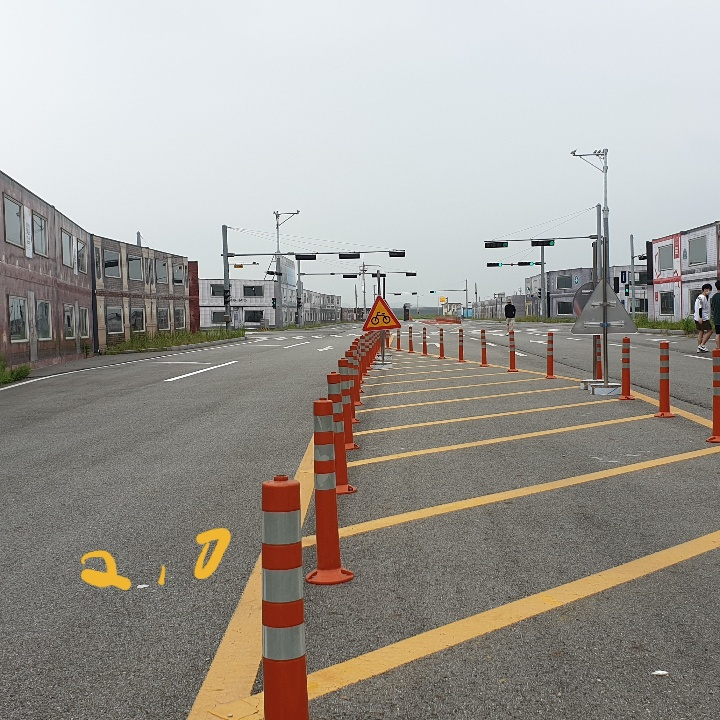bicycle: (362, 297, 397, 330)
